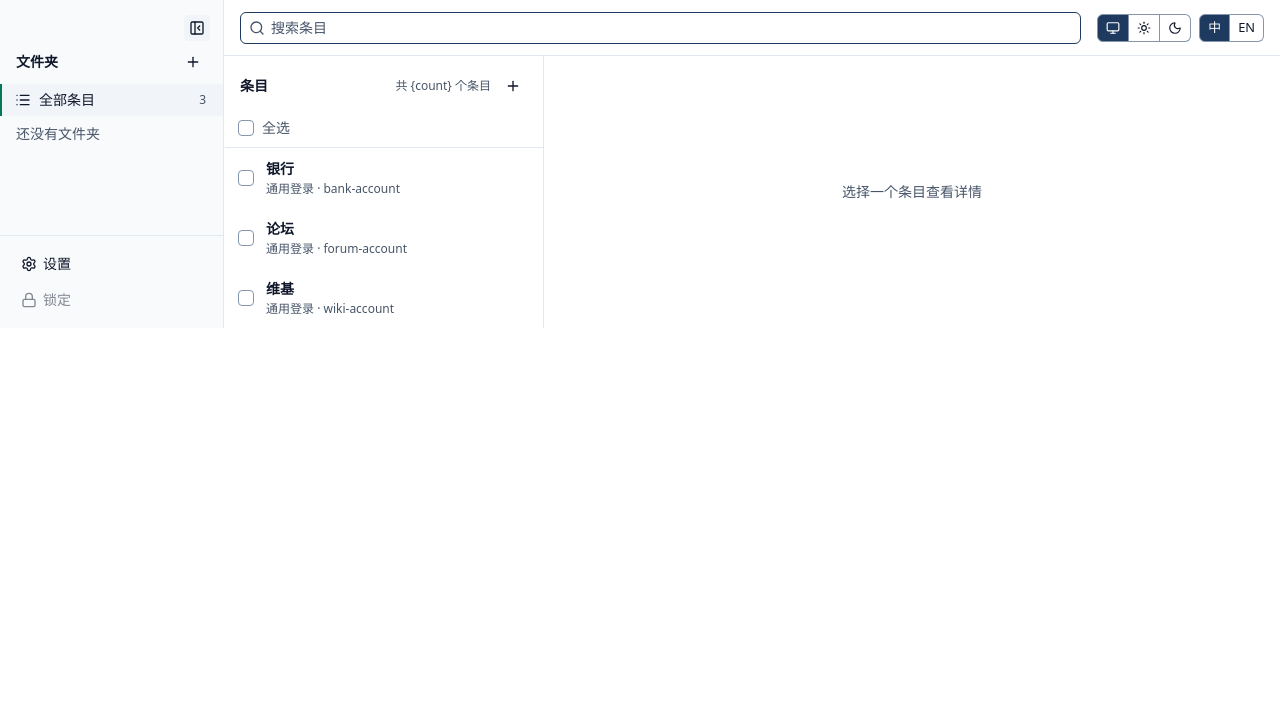
工作区里的附件区 › 删除条目后它的附件不再显示, 详情里换成相邻条目自己的附件区
Click the button "论坛 通用登录 · forum-account".
click(400, 238)  # box [258, 208, 543, 268]
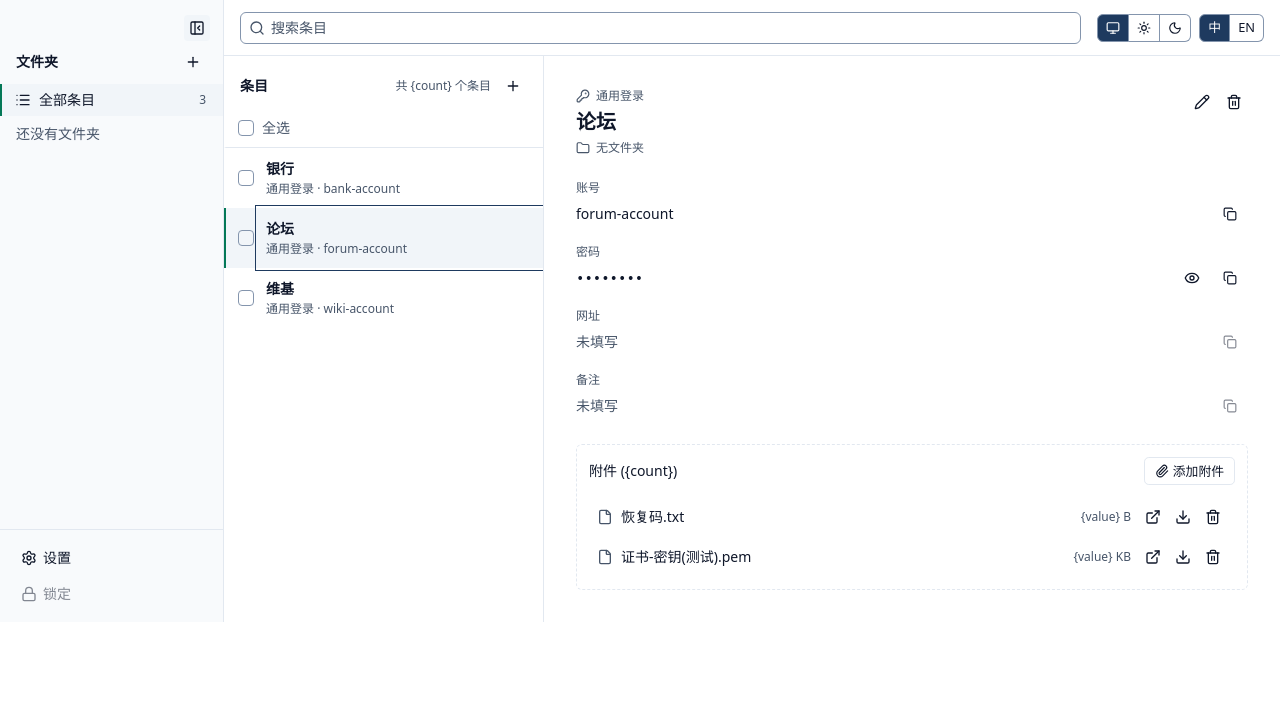
expect the heading "论坛" is shown: met, box [576, 108, 616, 135]
expect the text "恢复码.txt" is shown: met, box [621, 507, 684, 526]
Click the button named "删除条目".
click(1234, 102)  # box [1220, 88, 1248, 116]
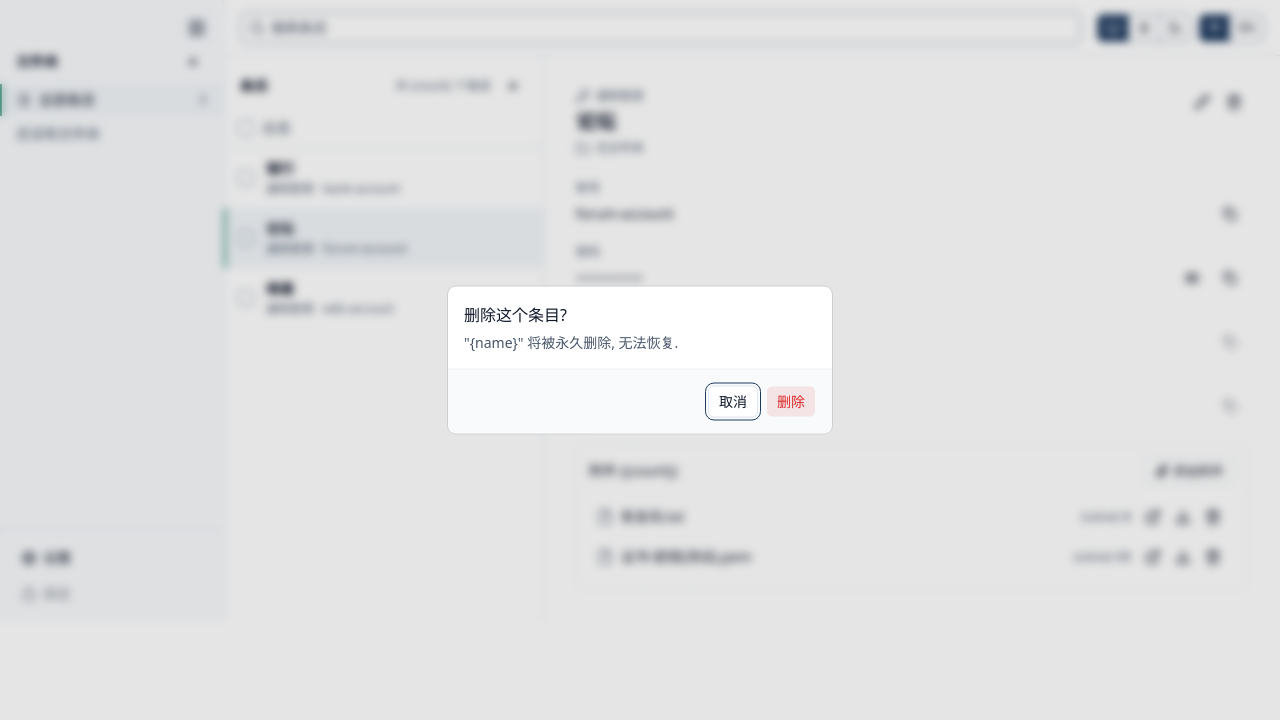
Click the button "删除".
click(791, 402)  # box [766, 386, 816, 418]
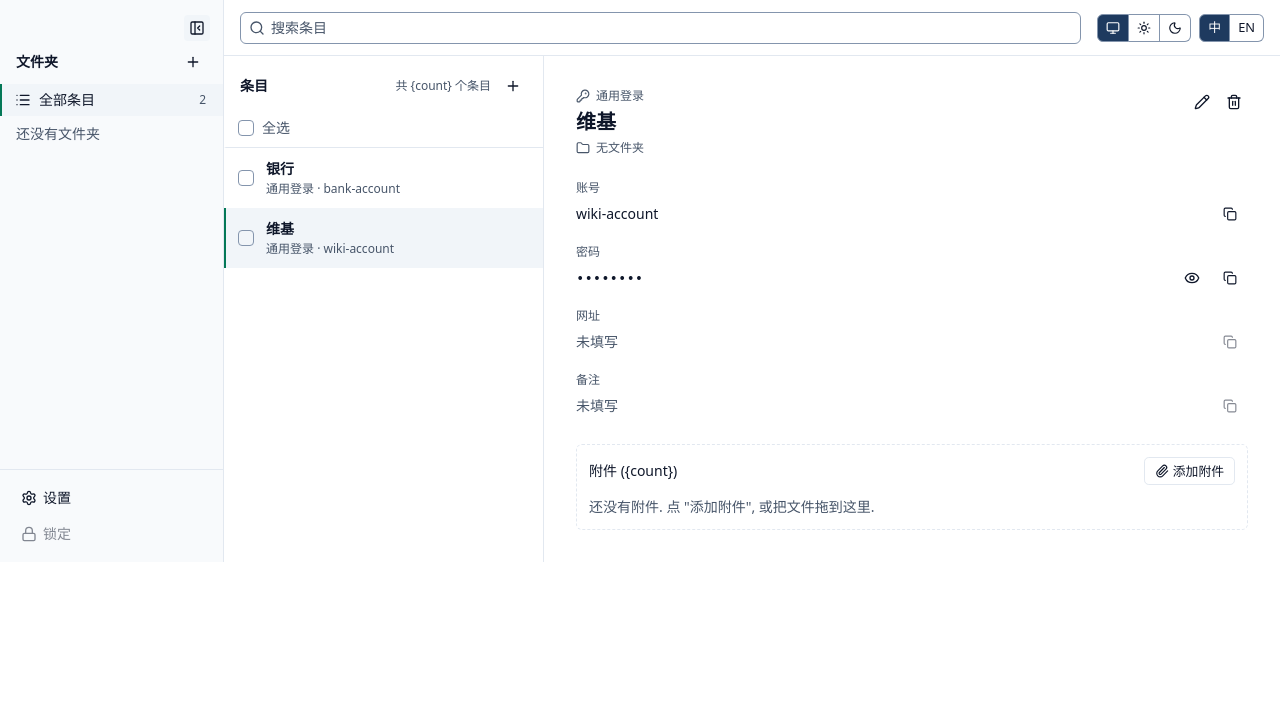
expect the text "恢复码.txt" is gone: met
expect the text "证书-密钥(测试).pem" is gone: met
